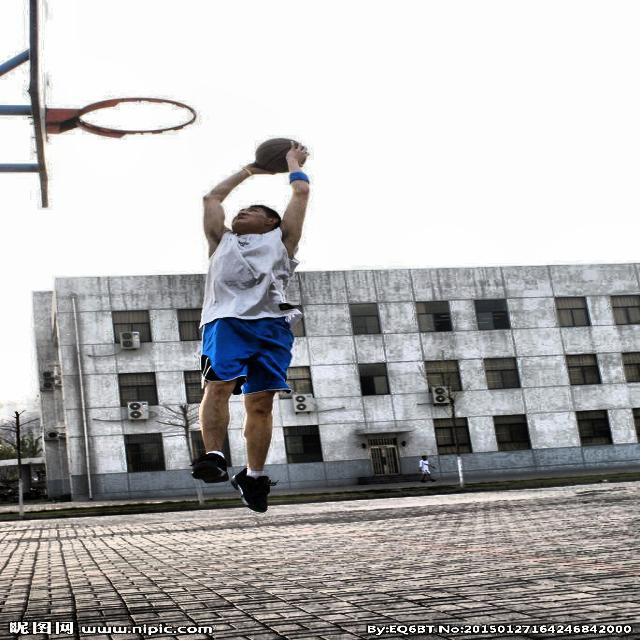board: (254, 137, 308, 172)
rim: (75, 96, 196, 138)
